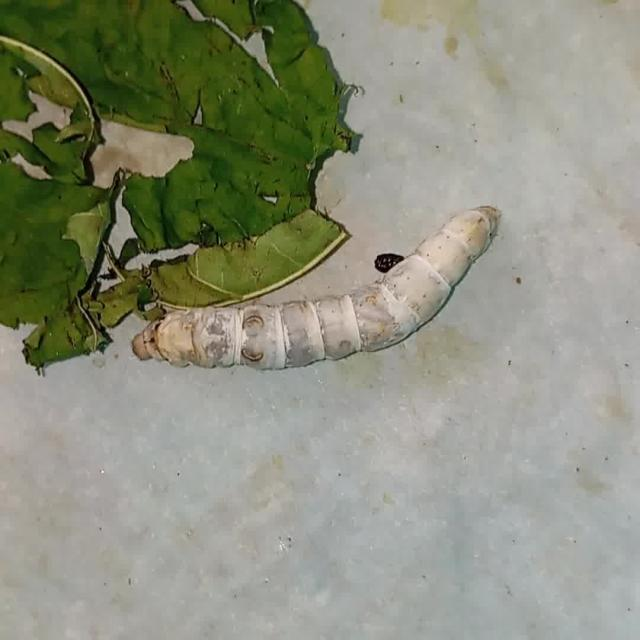Grasserie: (113, 182, 523, 388)
